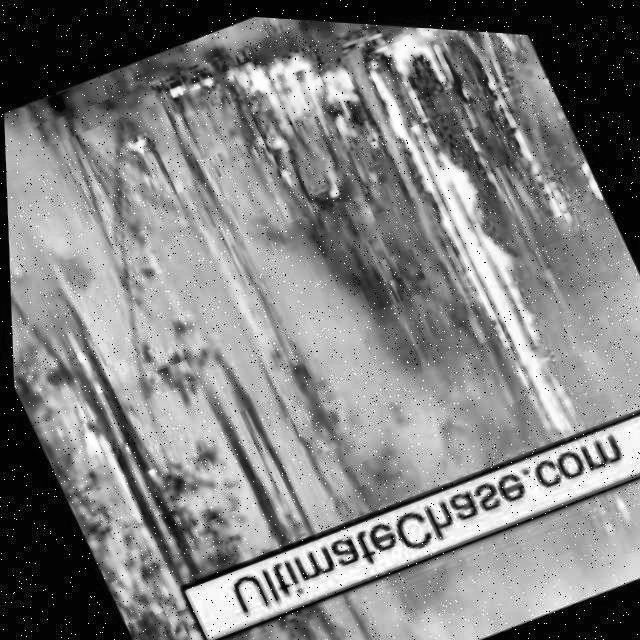Fire: (343, 18, 588, 444), (207, 24, 380, 177), (35, 327, 160, 490), (491, 78, 575, 223), (413, 22, 532, 76), (113, 118, 173, 204), (152, 585, 212, 640), (569, 136, 603, 194)
Smoke: (57, 124, 524, 584), (252, 418, 640, 640), (2, 76, 181, 370)
